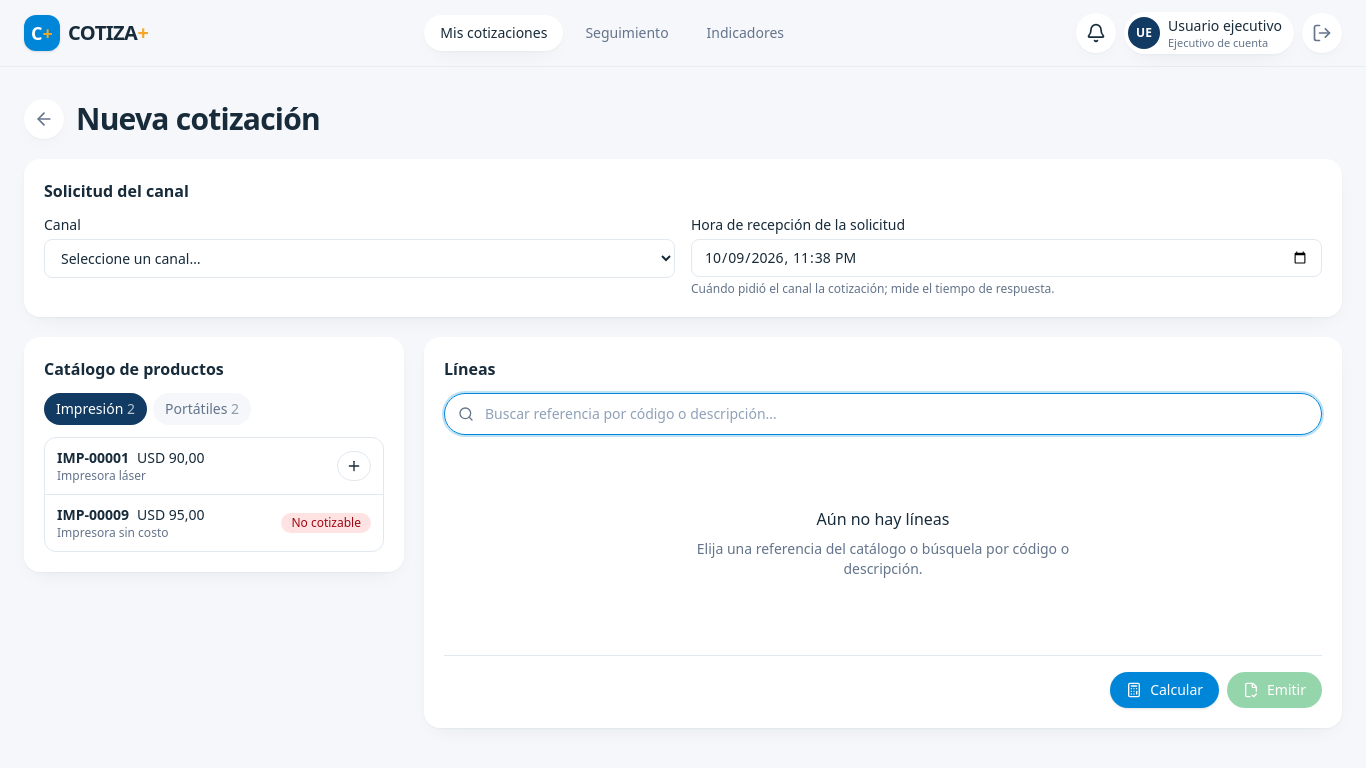
it: nueva cotización › muestra todo el catálogo separado por categoría y permite agregar desde ahí
Expected: the text "Impresora láser" is shown, x1=57 y1=467 x2=146 y2=484
Expected: the text "No cotizable" is shown, x1=281 y1=513 x2=371 y2=533
Click the tab "Portátiles 2": click(202, 409) x1=153 y1=393 x2=251 y2=425
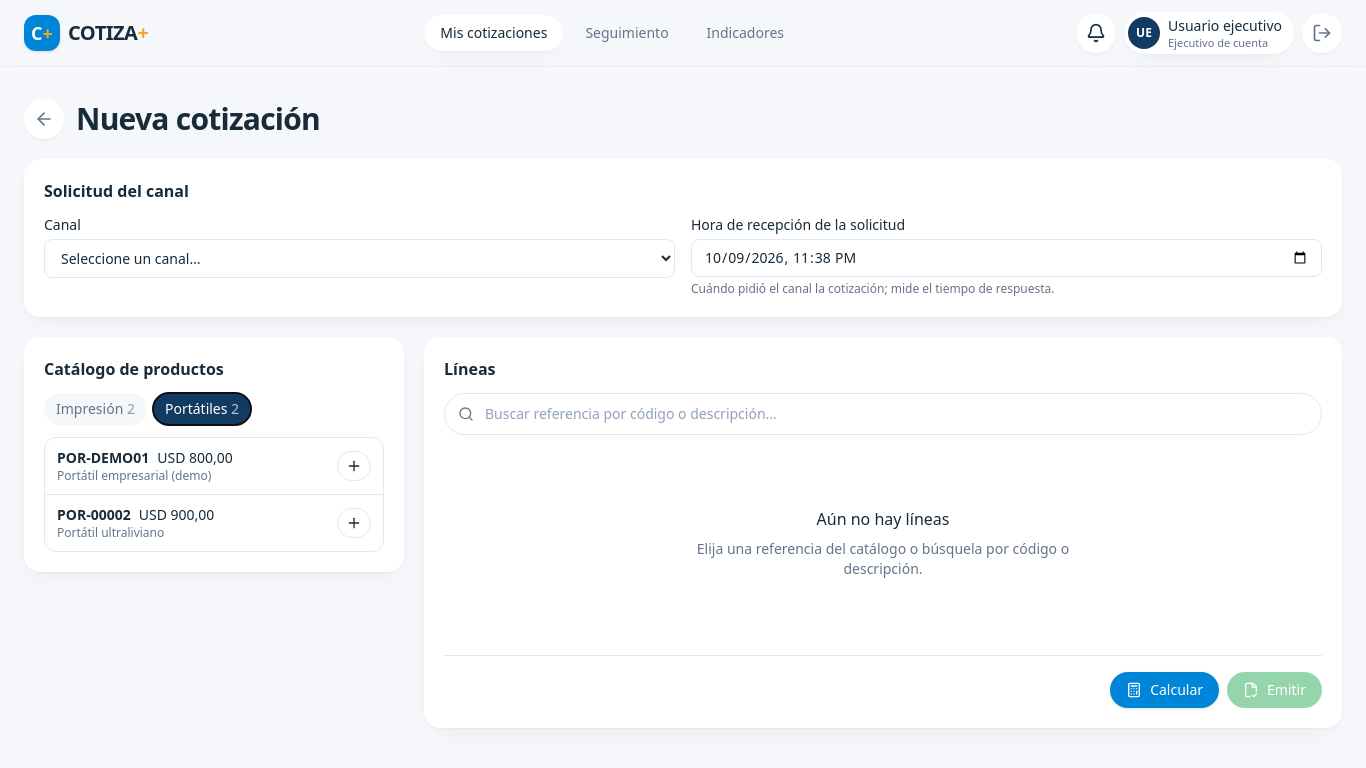
Expected: the text "Portátil ultraliviano" is shown, x1=57 y1=524 x2=164 y2=541
Click the button named "Agregar POR-DEMO01": click(354, 466) x1=337 y1=451 x2=371 y2=481
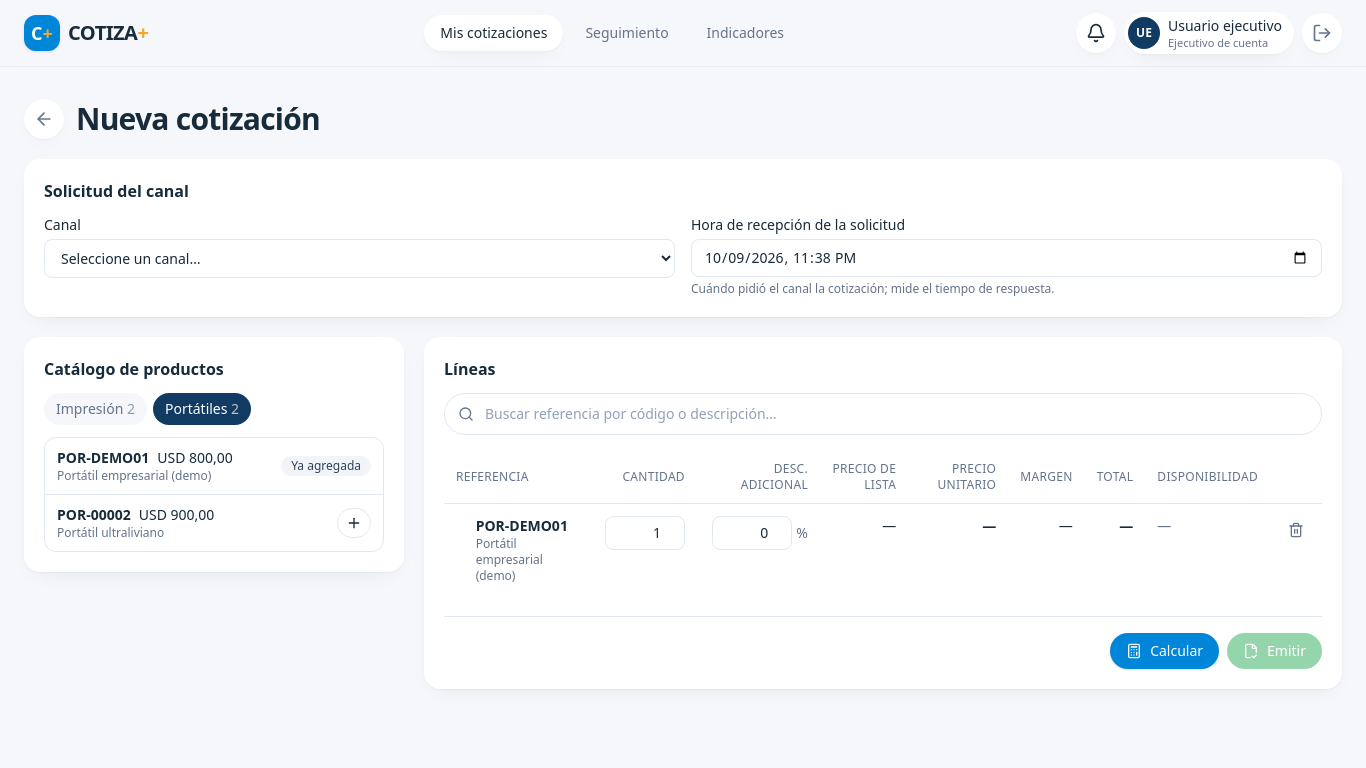
Expected: the number field named "Cantidad de POR-DEMO01" holds "1", x1=605 y1=516 x2=685 y2=550
Expected: the text "Ya agregada" is shown, x1=281 y1=456 x2=371 y2=476
